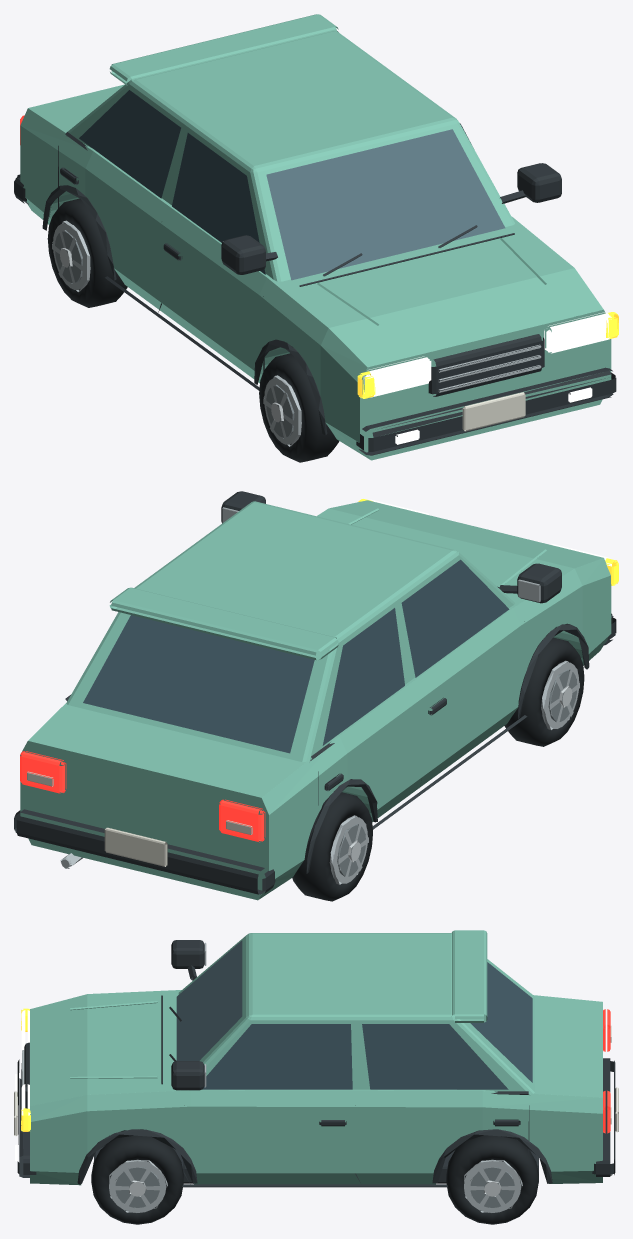
File: hatchback.glb
3 renders of one model, top to bottom at view 1: azimuth 30°, elevation 25°; view 2: azimuth 150°, elevation 25°; view 3: azimuth 270°, elevation 25°, orthographic. The views are drawn at different scales.
Visible parts, largest first — view 1: BodyMesh_Paint_Mint, ShapeSafe_BodyMesh_Paint_Mint, ShapeSafe_BodyMesh_Glass_Reflection, BodyMesh_Trim_Graphite, ShapeSafe_BodyMesh_Glass_StylizedOpaque, Wheel_FR.001_Mesh_Rubber_Tires, Wheel_RR.001_Mesh_Rubber_Tires, ShapeSafe_BodyMesh_Trim_Graphite, Headlamp_L.001, Headlamp_R.001, BodyMesh_Plate_Bone, BodyMesh_Metal_SatinAluminum (+4 smaller); view 2: BodyMesh_Paint_Mint, ShapeSafe_BodyMesh_Paint_Mint, ShapeSafe_BodyMesh_Glass_StylizedOpaque, BodyMesh_Trim_Graphite, Wheel_RR.001_Mesh_Rubber_Tires, Wheel_FR.001_Mesh_Rubber_Tires, BodyMesh_Plate_Bone, ShapeSafe_BodyMesh_Trim_Graphite, TailLamp_-1.001, TailLamp_1.001, Wheel_RR.001_Mesh_Metal_SatinAluminum, Wheel_FR.001_Mesh_Metal_SatinAluminum (+3 smaller); view 3: BodyMesh_Paint_Mint, ShapeSafe_BodyMesh_Paint_Mint, ShapeSafe_BodyMesh_Glass_StylizedOpaque, BodyMesh_Trim_Graphite, ShapeSafe_BodyMesh_Glass_Reflection, Wheel_RL.001_Mesh_Rubber_Tires, Wheel_FL.001_Mesh_Rubber_Tires, ShapeSafe_BodyMesh_Trim_Graphite, Wheel_FL.001_Mesh_Metal_SatinAluminum, Wheel_RL.001_Mesh_Metal_SatinAluminum, Wheel_FL.001_Mesh_Brake_Disc, Wheel_RL.001_Mesh_Brake_Disc (+1 smaller).
Boxes of the visible parts, x1,y1,x2,y2 form: BodyMesh_Paint_Mint: (20,14,611,460); ShapeSafe_BodyMesh_Paint_Mint: (66,31,514,281); ShapeSafe_BodyMesh_Glass_Reflection: (266,129,505,280); BodyMesh_Trim_Graphite: (14,132,616,455); ShapeSafe_BodyMesh_Glass_StylizedOpaque: (79,90,471,274); Wheel_FR.001_Mesh_Rubber_Tires: (259,353,339,462); Wheel_RR.001_Mesh_Rubber_Tires: (47,198,127,307); ShapeSafe_BodyMesh_Trim_Graphite: (221,163,561,274); Headlamp_L.001: (544,312,611,353); Headlamp_R.001: (363,356,431,397); BodyMesh_Plate_Bone: (462,392,525,431); BodyMesh_Metal_SatinAluminum: (223,169,541,392); BodyMesh_Paint_Mint: (20,500,611,900); ShapeSafe_BodyMesh_Paint_Mint: (66,501,514,763); ShapeSafe_BodyMesh_Glass_StylizedOpaque: (83,559,509,753); BodyMesh_Trim_Graphite: (14,585,616,894); Wheel_RR.001_Mesh_Rubber_Tires: (292,792,372,901); Wheel_FR.001_Mesh_Rubber_Tires: (504,637,584,746); BodyMesh_Plate_Bone: (27,771,252,866); ShapeSafe_BodyMesh_Trim_Graphite: (221,491,561,603); TailLamp_-1.001: (219,799,265,842); TailLamp_1.001: (20,751,66,793); Wheel_RR.001_Mesh_Metal_SatinAluminum: (329,815,368,884); Wheel_FR.001_Mesh_Metal_SatinAluminum: (541,660,579,729); BodyMesh_Paint_Mint: (30,930,602,1185); ShapeSafe_BodyMesh_Paint_Mint: (178,933,534,1095); ShapeSafe_BodyMesh_Glass_StylizedOpaque: (202,962,532,1089); BodyMesh_Trim_Graphite: (17,965,615,1187); ShapeSafe_BodyMesh_Glass_Reflection: (176,940,242,1060); Wheel_RL.001_Mesh_Rubber_Tires: (446,1135,538,1224); Wheel_FL.001_Mesh_Rubber_Tires: (91,1135,183,1224); ShapeSafe_BodyMesh_Trim_Graphite: (171,940,204,1090); Wheel_FL.001_Mesh_Metal_SatinAluminum: (109,1159,167,1212); Wheel_RL.001_Mesh_Metal_SatinAluminum: (464,1159,522,1212); Wheel_FL.001_Mesh_Brake_Disc: (115,1167,159,1208); Wheel_RL.001_Mesh_Brake_Disc: (470,1167,514,1208).
Bounding box in the file's own units: 2.19 × 1.52 × 4.19.
